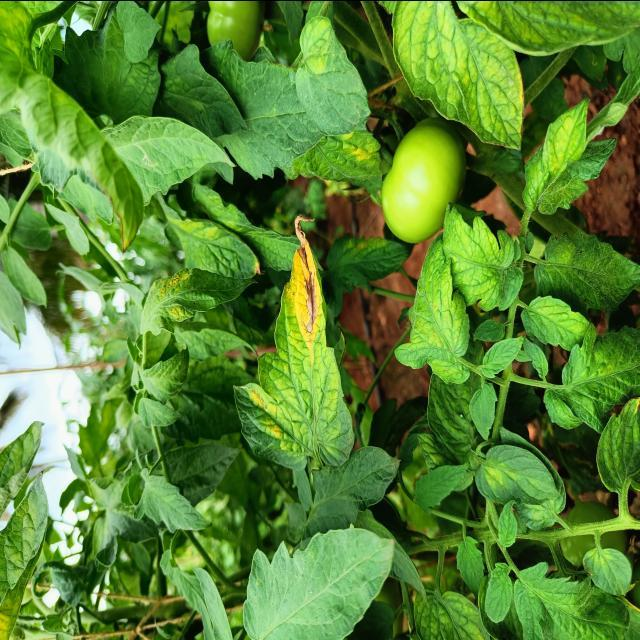Tomato mosaic virus leaf: (230, 212, 353, 466)
